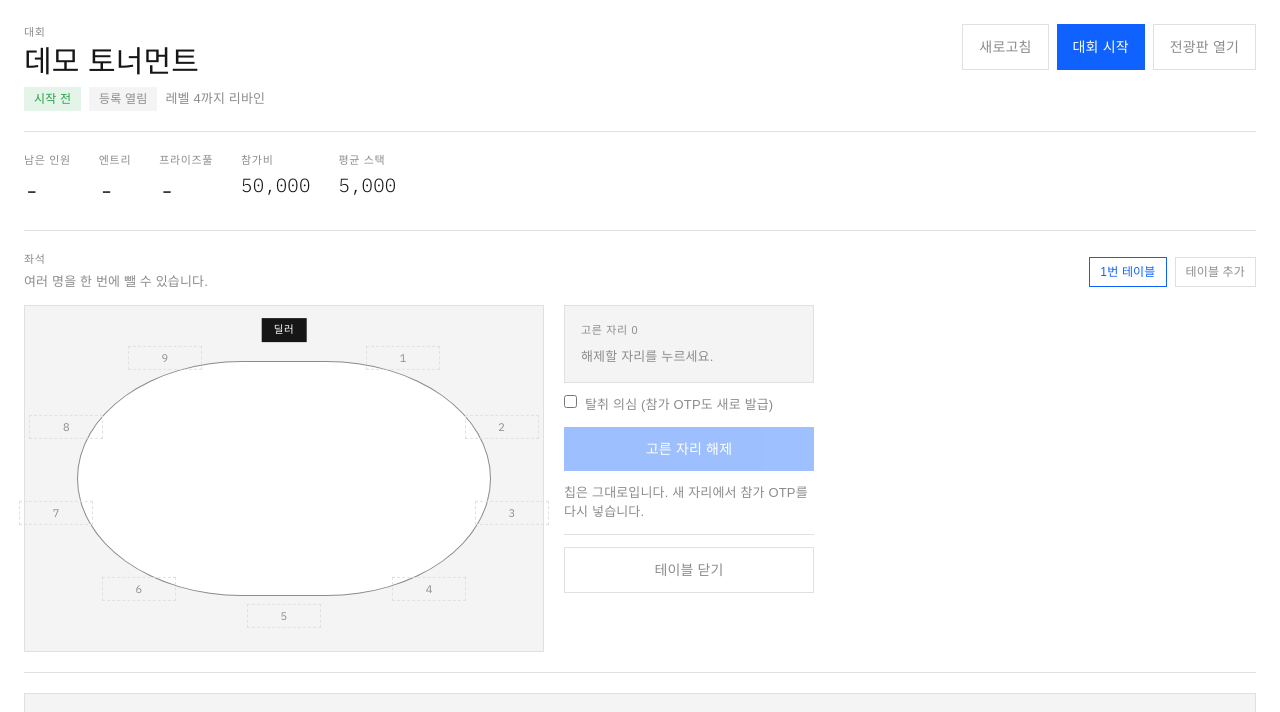
it: ConsoleClient — 좌석 선택 › 조작이 던져도 안내가 뜬다
The image size is (1280, 712).
Click the button "테이블 추가": (1215,272) [1174,257,1256,287]
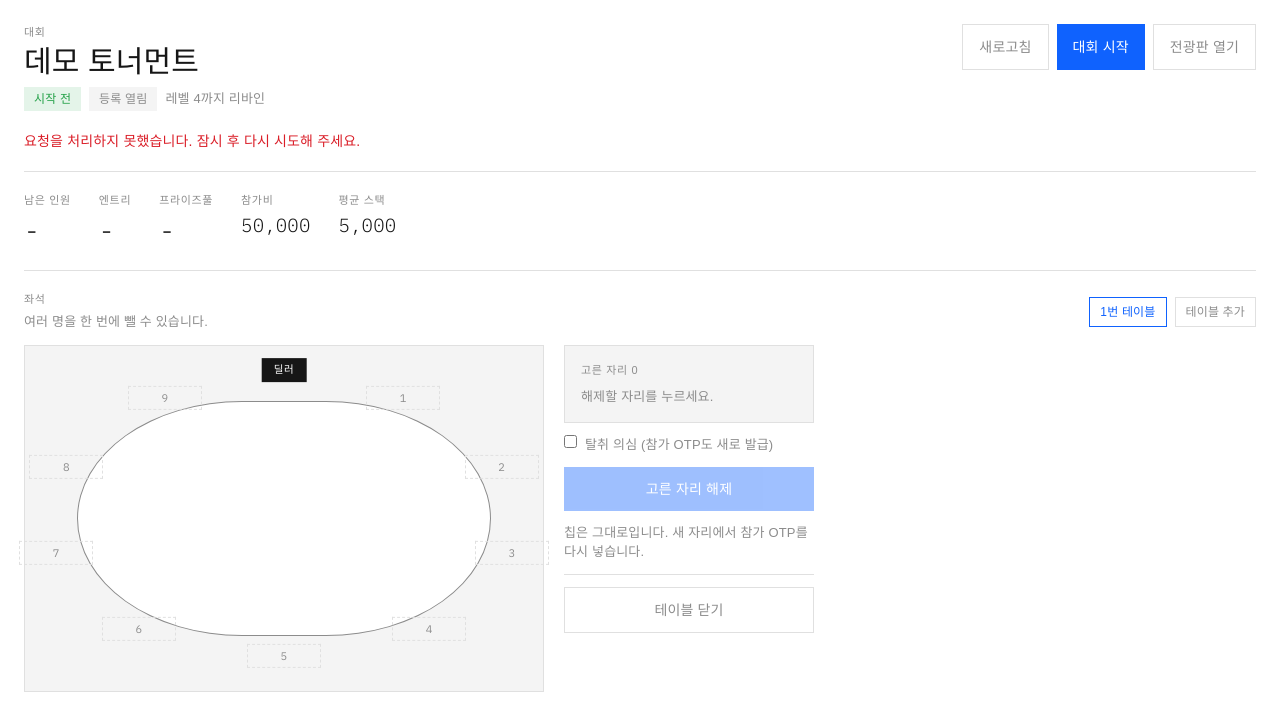
Now the message reads "요청을 처리하지 못했습니다. 잠시 후 다시 시도해 주세요.", box [24,133,360,149]
